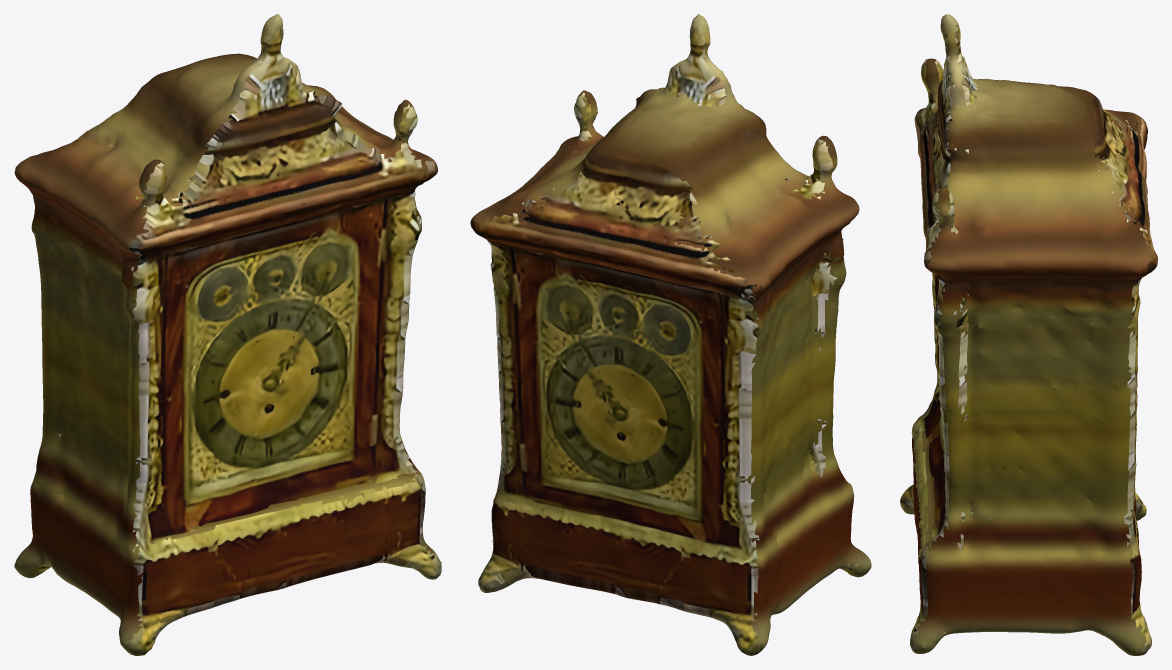
Rendered from kfl-2139.glb.
3 views of the same model, side by side, from view 1: azimuth 30°, elevation 25°; view 2: azimuth 150°, elevation 25°; view 3: azimuth 270°, elevation 25° (orthographic). The views are drawn at different scales.
Visible parts, largest first — view 1: kfl-2139; view 2: kfl-2139; view 3: kfl-2139.
Boxes of the visible parts, x1,y1,x2,y2 form: kfl-2139: [14, 14, 441, 655]; kfl-2139: [470, 14, 871, 655]; kfl-2139: [900, 14, 1157, 655].
Bounding box in the file's own units: 0.5661 × 0.9871 × 0.3984.
Materials: 4 (4 with a texture image).
